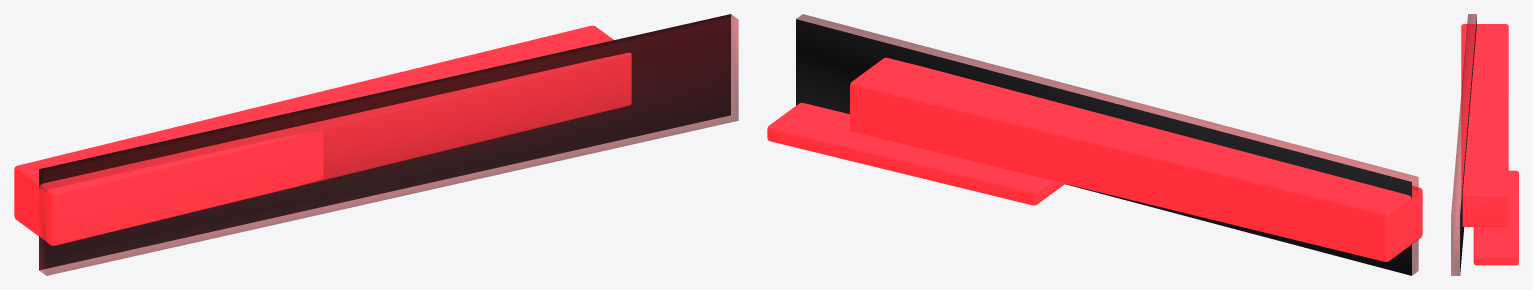
Rendered from taillight_left.glb.
3 renders of one model, left to right at view 1: azimuth 30°, elevation 25°; view 2: azimuth 150°, elevation 25°; view 3: azimuth 270°, elevation 25°, orthographic. The views are drawn at different scales.
Visible parts, largest first — view 1: GEO_Taillight_Left; view 2: GEO_Taillight_Left; view 3: GEO_Taillight_Left.
Boxes of the visible parts, x1=… form: GEO_Taillight_Left: x1=14, y1=14, x2=738, y2=275; GEO_Taillight_Left: x1=767, y1=14, x2=1422, y2=275; GEO_Taillight_Left: x1=1451, y1=14, x2=1518, y2=275.
Bounding box in the file's own units: 0.42 × 0.06 × 0.06.
